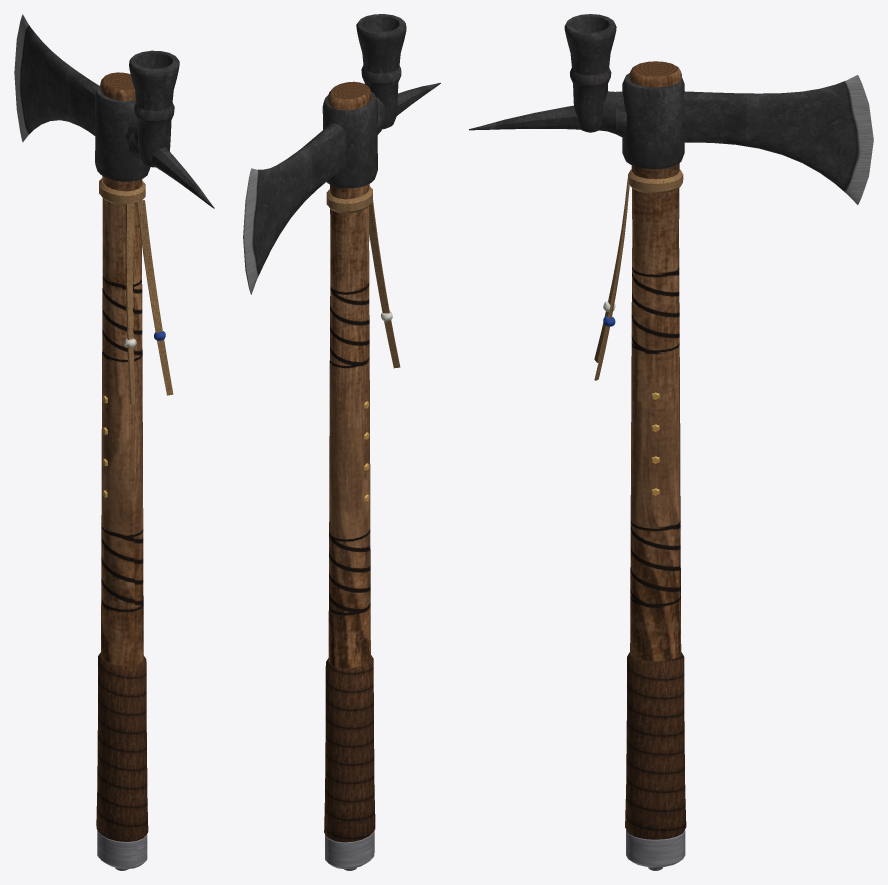
The model's file is tomahawk.glb.
3 views of the same model, side by side, from view 1: azimuth 30°, elevation 25°; view 2: azimuth 150°, elevation 25°; view 3: azimuth 270°, elevation 25° (orthographic). The views are drawn at different scales.
Parts seen in each view (by area): view 1: Tomahawk, TomahawkPipe; view 2: Tomahawk, TomahawkPipe; view 3: Tomahawk, TomahawkPipe.
Part boxes in pixels (<box>): Tomahawk: <box>14,14,214,841</box>; TomahawkPipe: <box>97,50,179,870</box>; Tomahawk: <box>243,81,440,842</box>; TomahawkPipe: <box>325,14,406,870</box>; Tomahawk: <box>469,61,873,839</box>; TomahawkPipe: <box>564,14,685,870</box>.
Size of the model in its own units: 0.0312 by 0.5295 by 0.23.
1 material, 1 textured.
